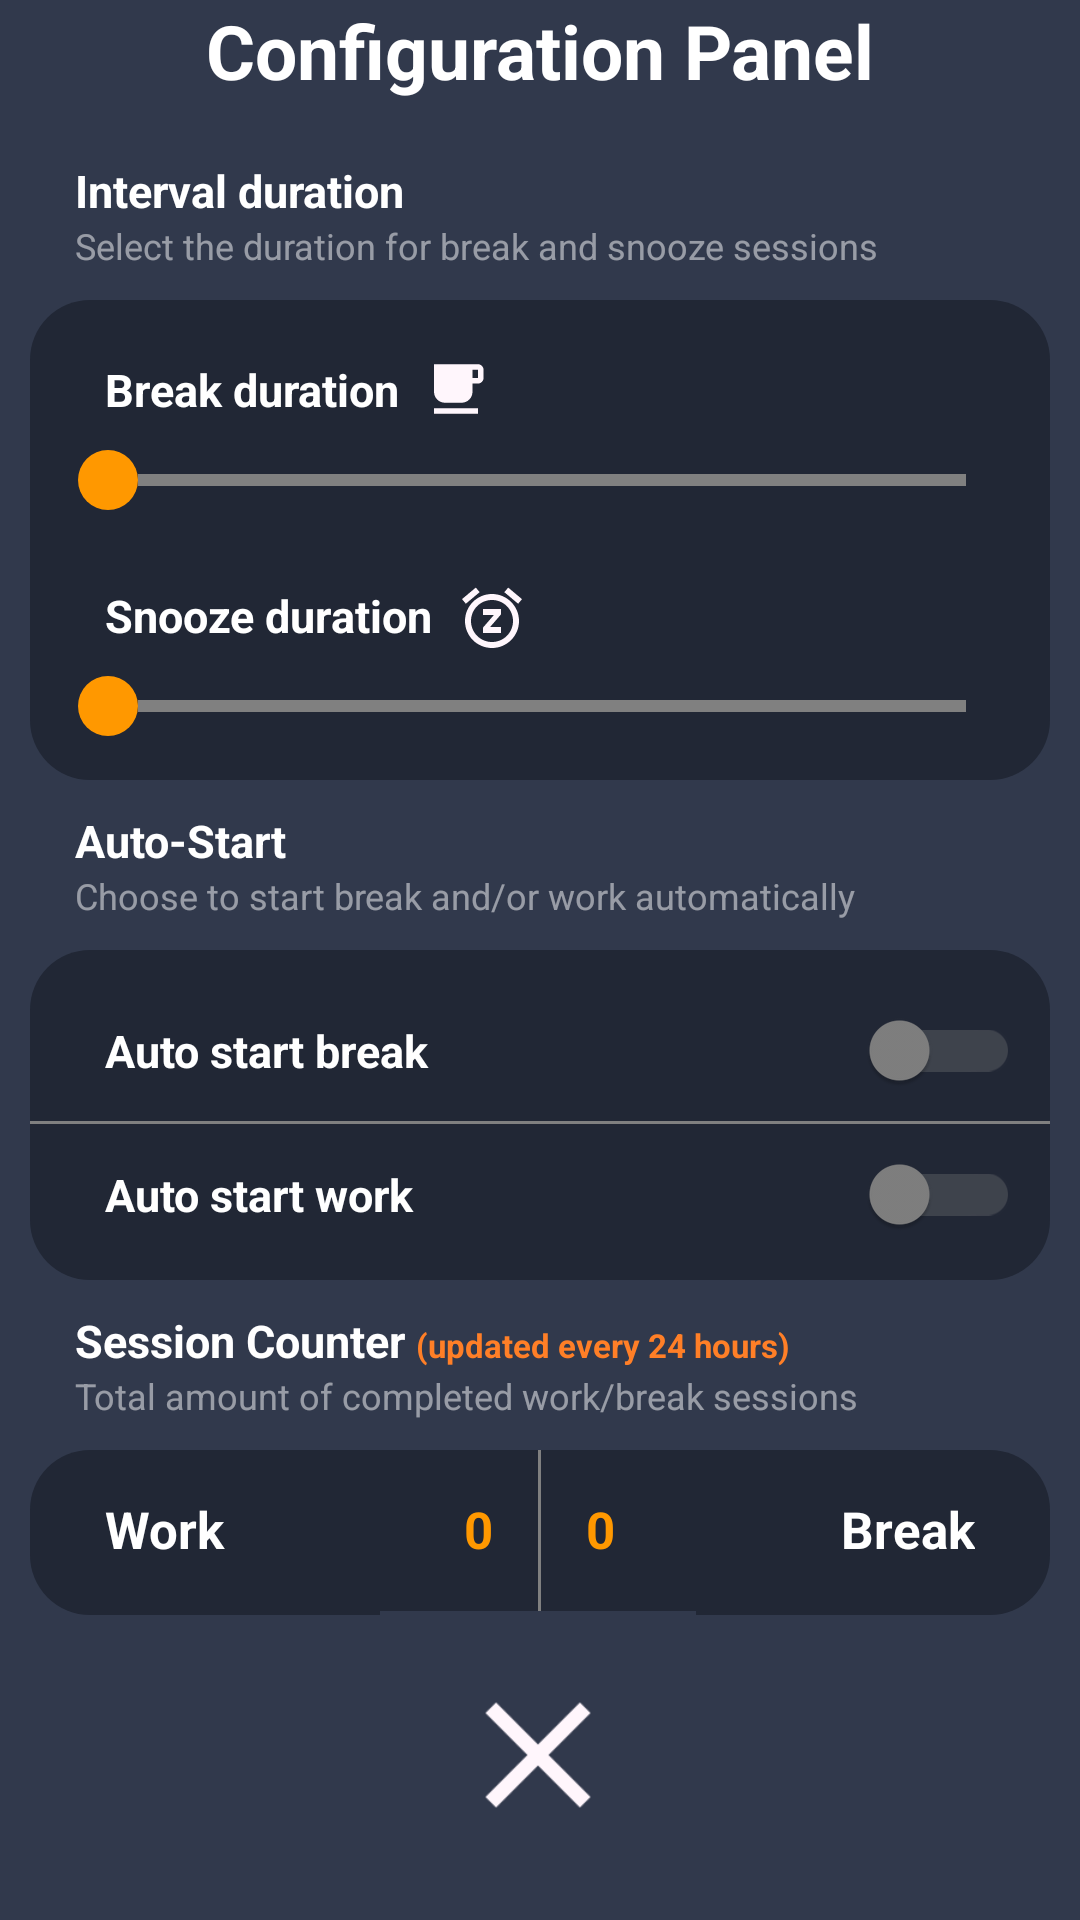

Icon bounding boxes for this 1080*1920 phone screenshot, format box=[x1, y1, x2, y2]:
free breakfast configurations: box=[434, 364, 484, 414]
snooze configurations: box=[462, 587, 522, 648]
